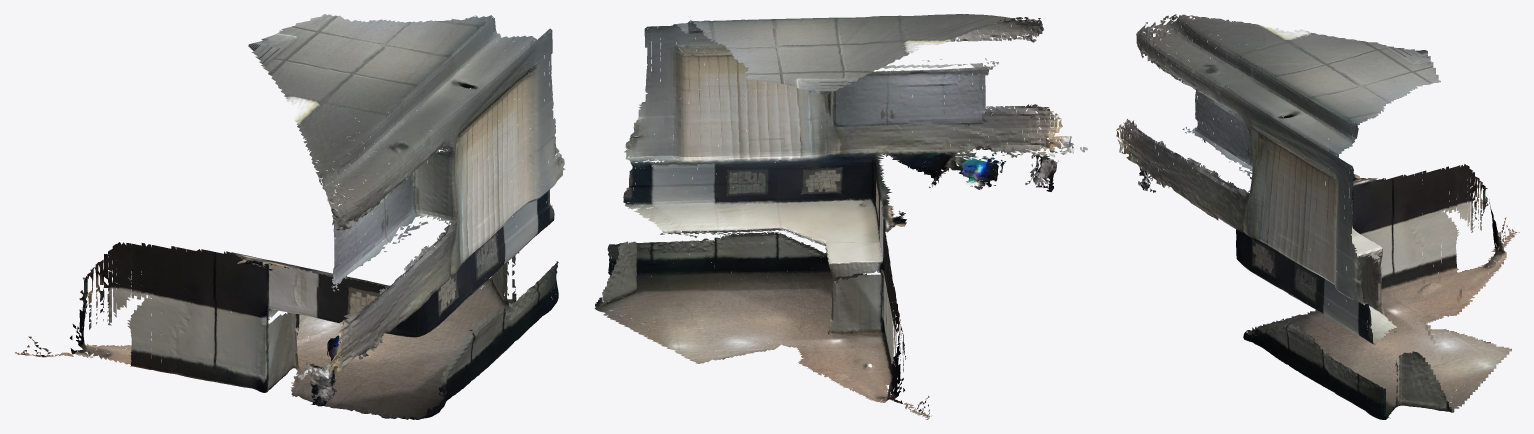
3 views of the same model, side by side, from view 1: azimuth 30°, elevation 25°; view 2: azimuth 150°, elevation 25°; view 3: azimuth 270°, elevation 25° (orthographic). The views are drawn at different scales.
Visible parts, largest first — view 1: mesh; view 2: mesh; view 3: mesh.
Part boxes in pixels (x1=…): mesh: x1=15, y1=14, x2=565, y2=419; mesh: x1=594, y1=14, x2=1087, y2=419; mesh: x1=1116, y1=14, x2=1519, y2=419.
Size of the model in its own units: 4.27 by 2.83 by 3.85.
1 material, 1 textured.
